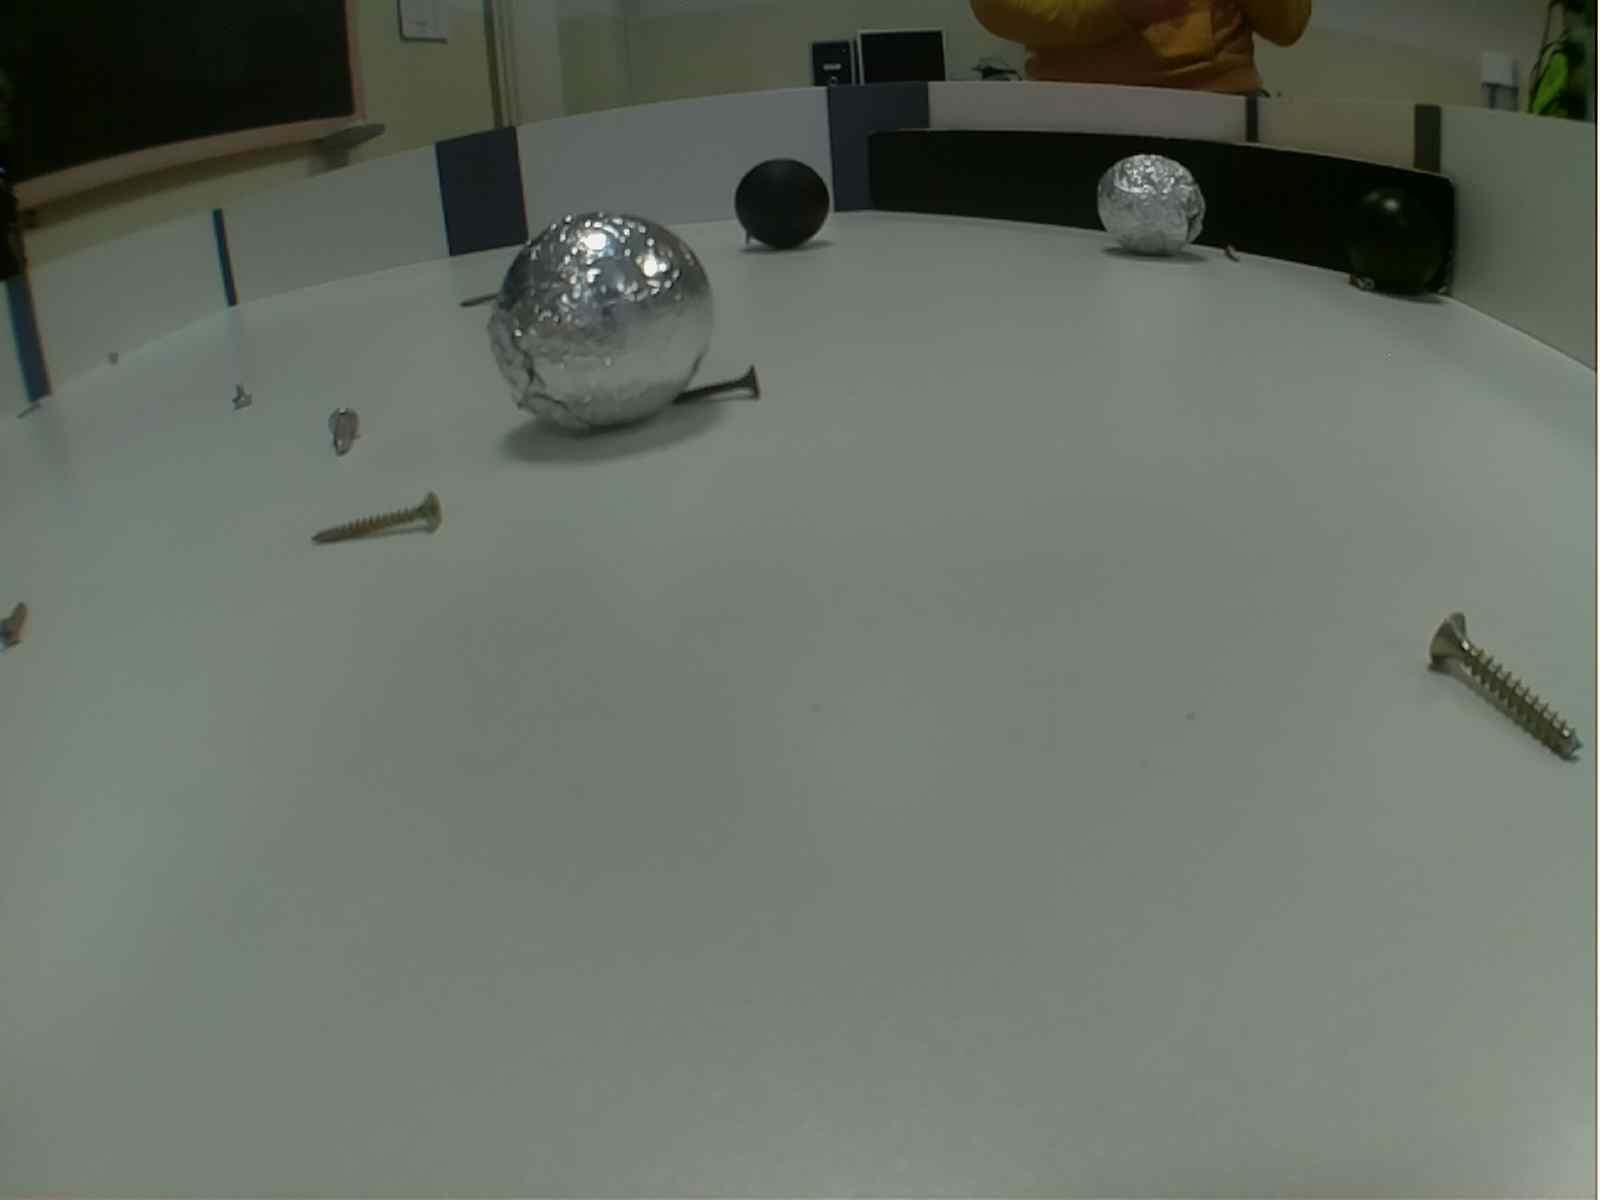bianca: (486, 203, 721, 437), (1094, 147, 1204, 258)
nera: (1340, 189, 1458, 306), (731, 149, 831, 250)
